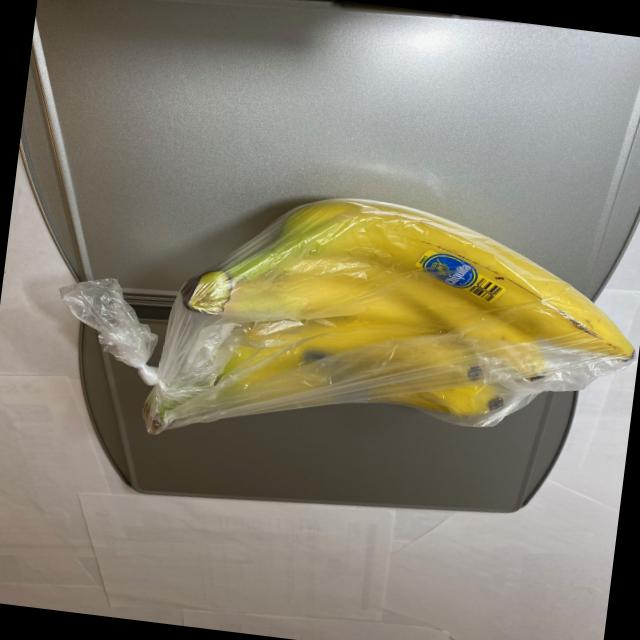banana: (117, 169, 640, 491)
